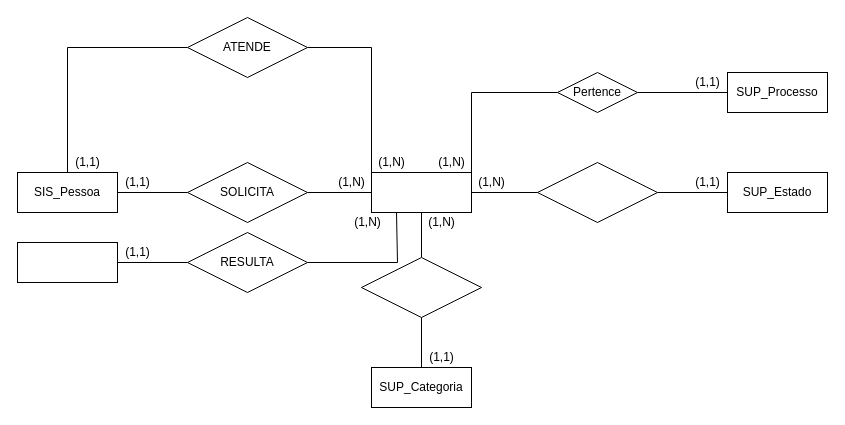
Some shapes in this 845 by 425 pixel diagram are drawn without their labels. The shapes that lost their labels are listed below. From the top down, each one's centre as x and y in pixels, then its label:
point 421,192: SUP_Chamado
point 597,192: PERCENTE
point 67,262: SUP_Prioridade
point 421,287: COMPOE
